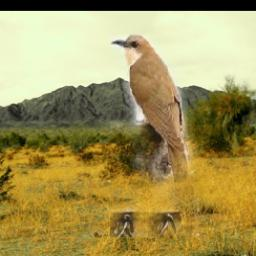Cuckoo: (111, 36, 200, 238)
